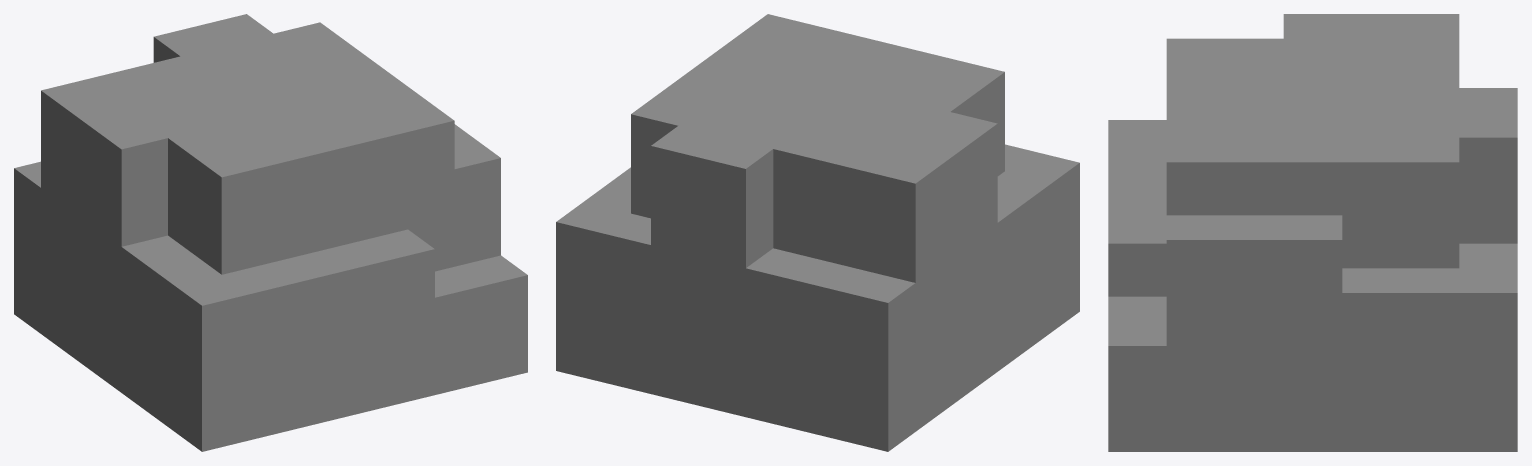
File: rock_1.obj
3 views of the same model, side by side, from view 1: azimuth 30°, elevation 25°; view 2: azimuth 150°, elevation 25°; view 3: azimuth 270°, elevation 25° (orthographic). The views are drawn at different scales.
Size of the model in its own units: 0.7 by 0.5 by 0.7.
1 material, 1 textured.
